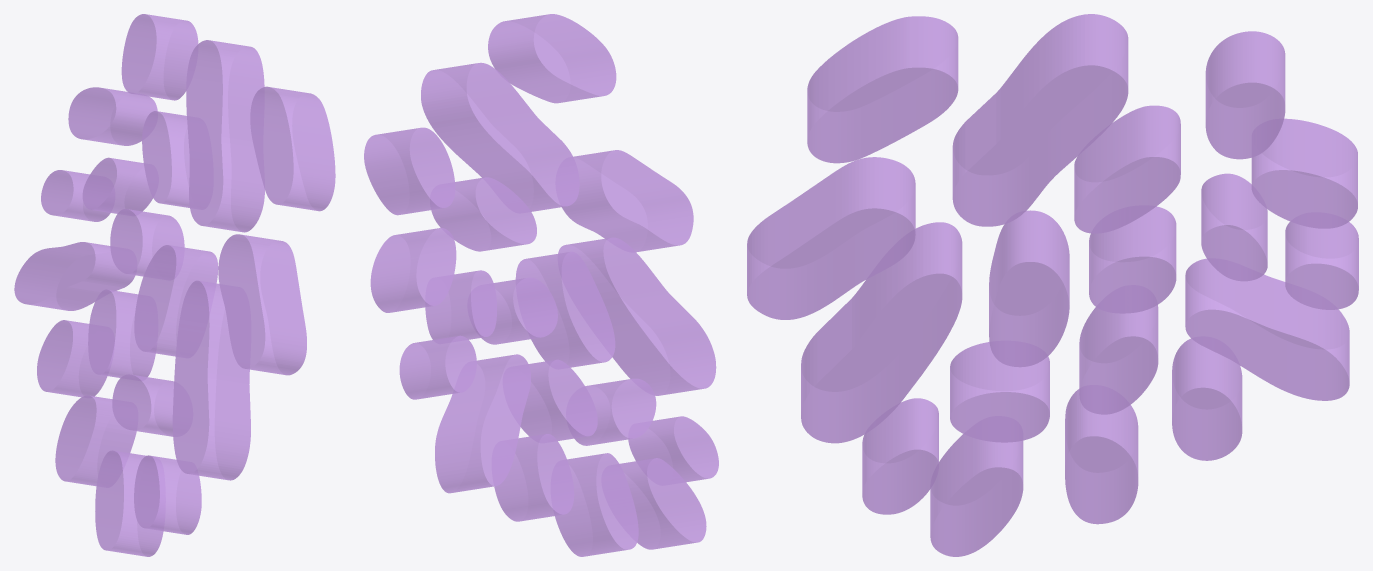
The model's file is cristalesventana_museo.glb.
3 views of the same model, side by side, from view 1: azimuth 30°, elevation 25°; view 2: azimuth 150°, elevation 25°; view 3: azimuth 270°, elevation 25° (orthographic). The views are drawn at different scales.
Parts seen in each view (by area): view 1: STAINED_GLASS_PANE_18, STAINED_GLASS_PANE_17, STAINED_GLASS_PANE_16, STAINED_GLASS_PANE_14, STAINED_GLASS_PANE_15, STAINED_GLASS_PANE_13, STAINED_GLASS_PANE_09, STAINED_GLASS_PANE_10, STAINED_GLASS_PANE_12, STAINED_GLASS_PANE_03, STAINED_GLASS_PANE_07, STAINED_GLASS_PANE_11 (+6 smaller); view 2: STAINED_GLASS_PANE_18, STAINED_GLASS_PANE_17, STAINED_GLASS_PANE_15, STAINED_GLASS_PANE_16, STAINED_GLASS_PANE_14, STAINED_GLASS_PANE_13, STAINED_GLASS_PANE_09, STAINED_GLASS_PANE_10, STAINED_GLASS_PANE_08, STAINED_GLASS_PANE_12, STAINED_GLASS_PANE_11, STAINED_GLASS_PANE_05 (+6 smaller); view 3: STAINED_GLASS_PANE_18, STAINED_GLASS_PANE_17, STAINED_GLASS_PANE_16, STAINED_GLASS_PANE_14, STAINED_GLASS_PANE_15, STAINED_GLASS_PANE_13, STAINED_GLASS_PANE_11, STAINED_GLASS_PANE_08, STAINED_GLASS_PANE_12, STAINED_GLASS_PANE_09, STAINED_GLASS_PANE_06, STAINED_GLASS_PANE_10 (+6 smaller).
Boxes of the visible parts, bbox=[...] form: STAINED_GLASS_PANE_18: bbox=[186, 40, 264, 232]; STAINED_GLASS_PANE_17: bbox=[172, 280, 250, 480]; STAINED_GLASS_PANE_16: bbox=[218, 234, 306, 375]; STAINED_GLASS_PANE_14: bbox=[250, 86, 335, 211]; STAINED_GLASS_PANE_15: bbox=[14, 242, 135, 310]; STAINED_GLASS_PANE_13: bbox=[134, 245, 218, 356]; STAINED_GLASS_PANE_09: bbox=[121, 14, 198, 100]; STAINED_GLASS_PANE_10: bbox=[55, 395, 136, 486]; STAINED_GLASS_PANE_12: bbox=[95, 450, 163, 556]; STAINED_GLASS_PANE_03: bbox=[134, 455, 201, 534]; STAINED_GLASS_PANE_07: bbox=[88, 289, 155, 377]; STAINED_GLASS_PANE_11: bbox=[142, 111, 189, 207]; STAINED_GLASS_PANE_18: bbox=[421, 62, 579, 211]; STAINED_GLASS_PANE_17: bbox=[558, 237, 716, 395]; STAINED_GLASS_PANE_15: bbox=[435, 354, 530, 493]; STAINED_GLASS_PANE_16: bbox=[562, 150, 693, 252]; STAINED_GLASS_PANE_14: bbox=[488, 14, 616, 103]; STAINED_GLASS_PANE_13: bbox=[515, 251, 615, 367]; STAINED_GLASS_PANE_09: bbox=[364, 127, 455, 215]; STAINED_GLASS_PANE_10: bbox=[555, 453, 638, 556]; STAINED_GLASS_PANE_08: bbox=[370, 228, 456, 312]; STAINED_GLASS_PANE_12: bbox=[619, 458, 706, 549]; STAINED_GLASS_PANE_11: bbox=[431, 177, 536, 251]; STAINED_GLASS_PANE_05: bbox=[494, 434, 574, 521]; STAINED_GLASS_PANE_18: bbox=[952, 14, 1128, 226]; STAINED_GLASS_PANE_17: bbox=[801, 222, 962, 443]; STAINED_GLASS_PANE_16: bbox=[747, 157, 915, 319]; STAINED_GLASS_PANE_14: bbox=[807, 16, 958, 163]; STAINED_GLASS_PANE_15: bbox=[1185, 258, 1349, 400]; STAINED_GLASS_PANE_13: bbox=[989, 210, 1069, 367]; STAINED_GLASS_PANE_11: bbox=[1074, 105, 1180, 233]; STAINED_GLASS_PANE_08: bbox=[1251, 118, 1357, 228]; STAINED_GLASS_PANE_12: bbox=[930, 434, 1023, 556]; STAINED_GLASS_PANE_09: bbox=[1205, 31, 1285, 159]; STAINED_GLASS_PANE_06: bbox=[950, 342, 1049, 442]; STAINED_GLASS_PANE_10: bbox=[1065, 389, 1138, 524].
Bounding box in the file's own units: 0.7036 × 1.51 × 1.35.
